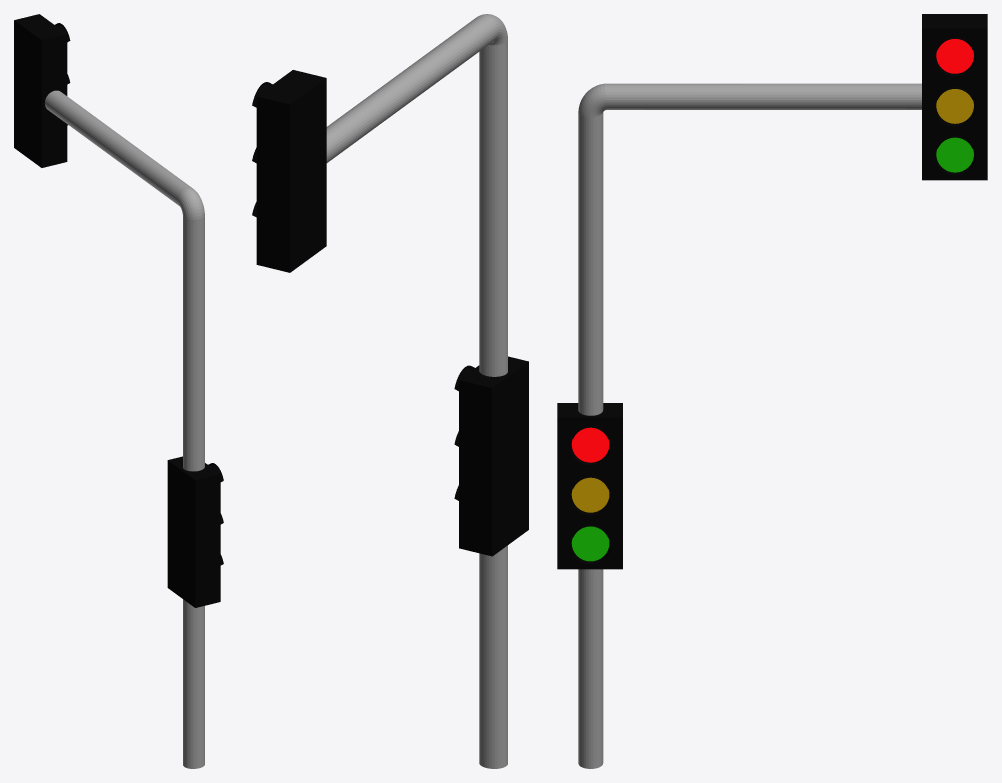
The model's file is circle.028_lev3.glb.
3 renders of one model, left to right at view 1: azimuth 30°, elevation 25°; view 2: azimuth 150°, elevation 25°; view 3: azimuth 270°, elevation 25°, orthographic. The views are drawn at different scales.
Parts seen in each view (by area): view 1: circle.028_lev3; view 2: circle.028_lev3; view 3: circle.028_lev3.
Part boxes in pixels (x1,y1,x2,y2): circle.028_lev3: [14, 14, 223, 768]; circle.028_lev3: [252, 14, 528, 768]; circle.028_lev3: [557, 14, 987, 768].
Bounding box in the file's own units: 0.1423 × 2.47 × 1.3.
